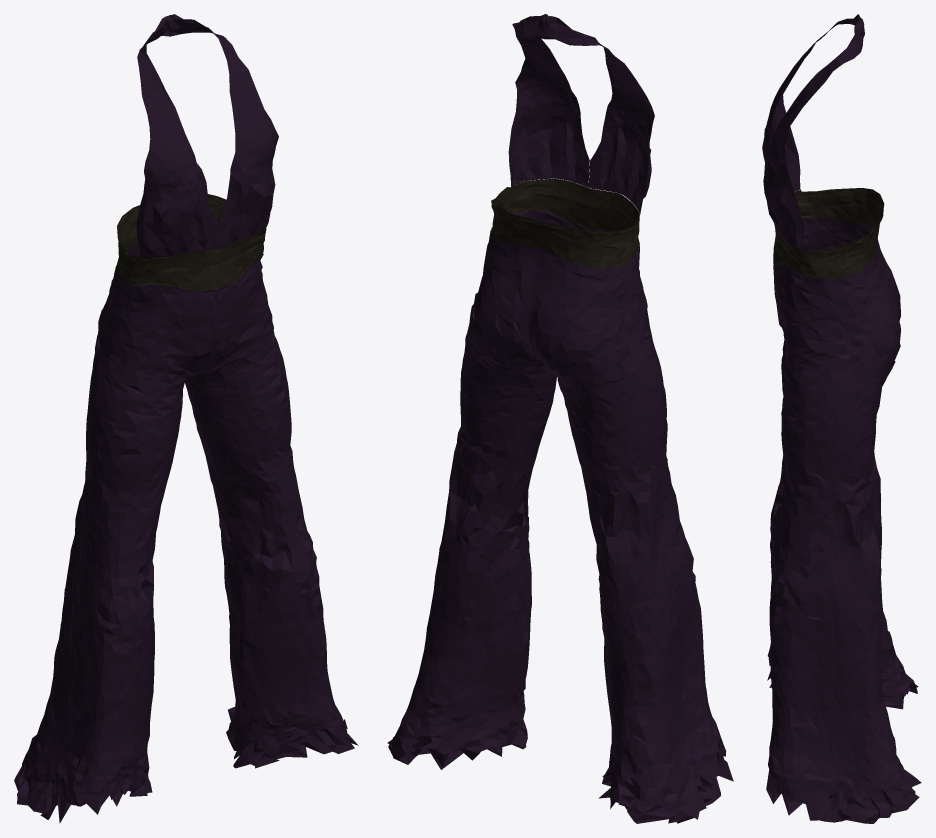
File: mhw_elvs_halter_style_pantsuit1.glb
3 renders of one model, left to right at view 1: azimuth 30°, elevation 25°; view 2: azimuth 150°, elevation 25°; view 3: azimuth 270°, elevation 25°, orthographic. The views are drawn at different scales.
Visible parts, largest first — view 1: mhw_elvs_halter_style_pantsuit1; view 2: mhw_elvs_halter_style_pantsuit1; view 3: mhw_elvs_halter_style_pantsuit1.
Part boxes in pixels (bbox=[...]): mhw_elvs_halter_style_pantsuit1: bbox=[14, 14, 358, 823]; mhw_elvs_halter_style_pantsuit1: bbox=[387, 14, 733, 823]; mhw_elvs_halter_style_pantsuit1: bbox=[762, 14, 921, 823].
Bounding box in the file's own units: 0.6894 × 1.65 × 0.3219.
Materials: 1 (1 with a texture image).
